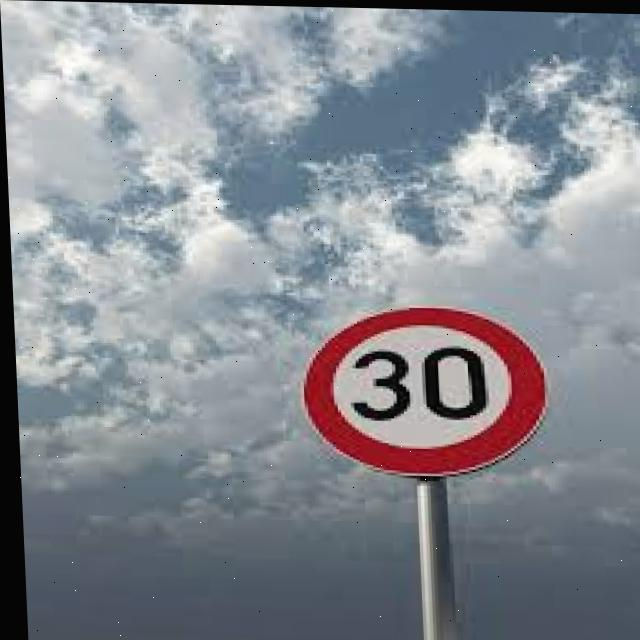Speed limit 30: (292, 297, 552, 480)
